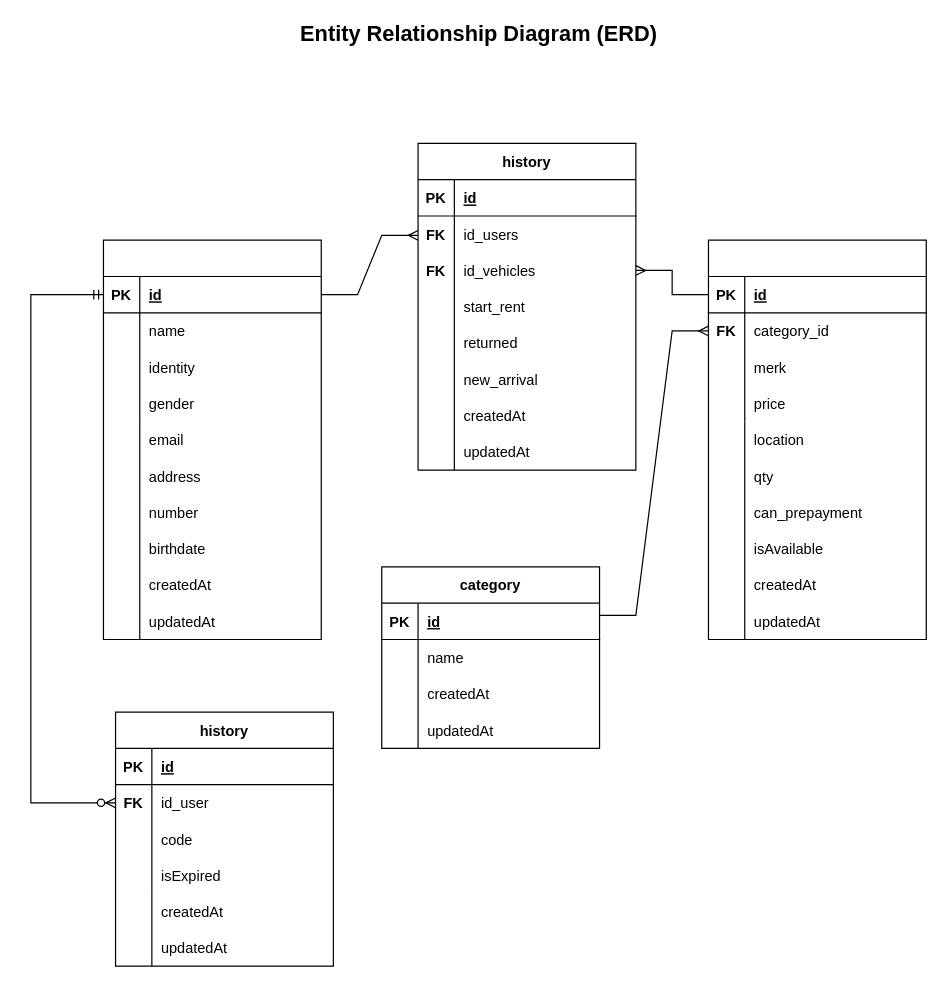
Some shapes in this 947 by 989 pixel diagram are drawn without their labels. The box of each missing label's shape, as (x1, y1, x2, y2) in pixels:
users: (102, 239, 321, 639)
vehicles: (707, 239, 926, 639)
